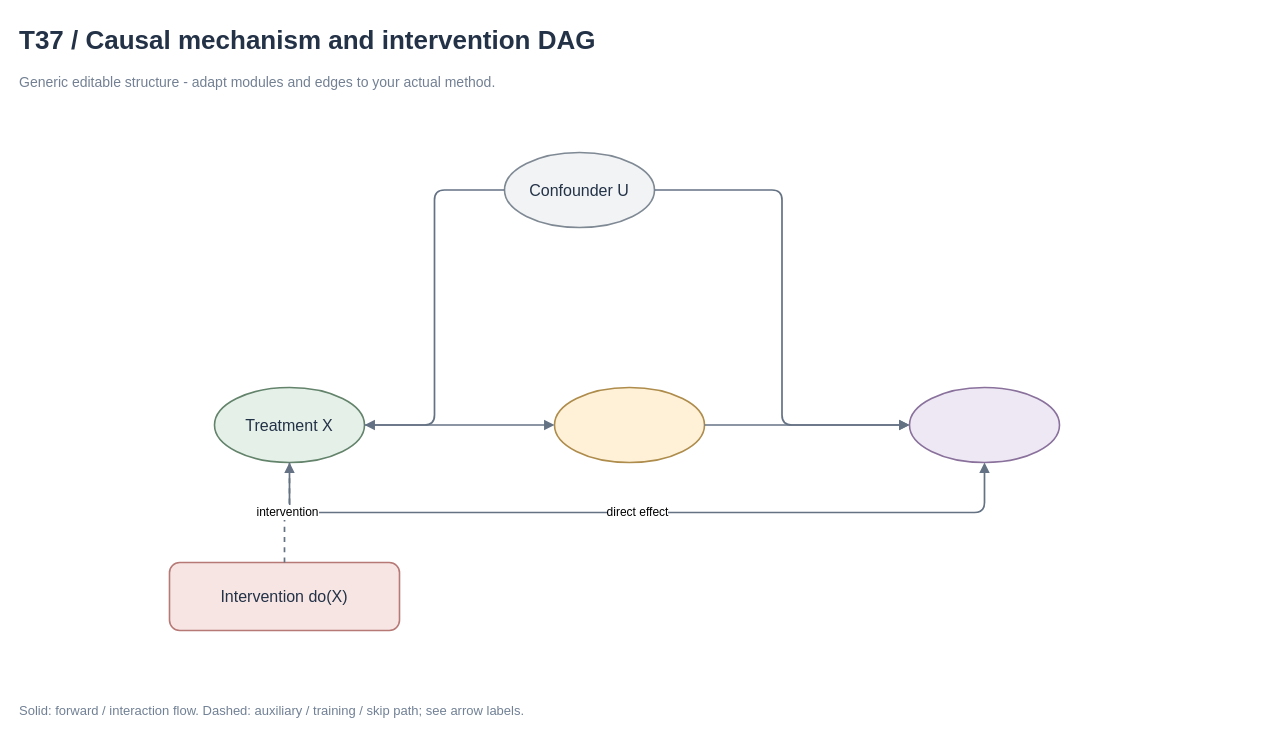
Image size: 1264x743. Some labels were removed from this diagram. The box of each missing label's shape, as (x1, y1, x2, y2) in pixels:
Mediator M: (553, 386, 705, 463)
Outcome Y: (908, 386, 1060, 463)
